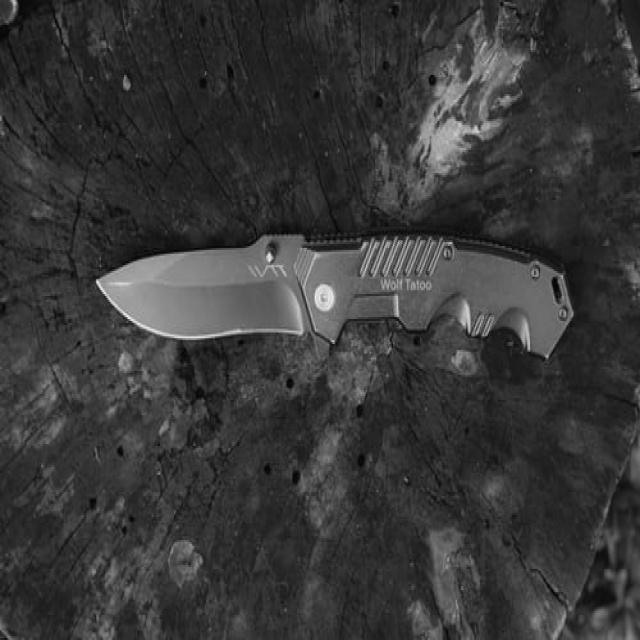faca: (82, 211, 587, 396)
